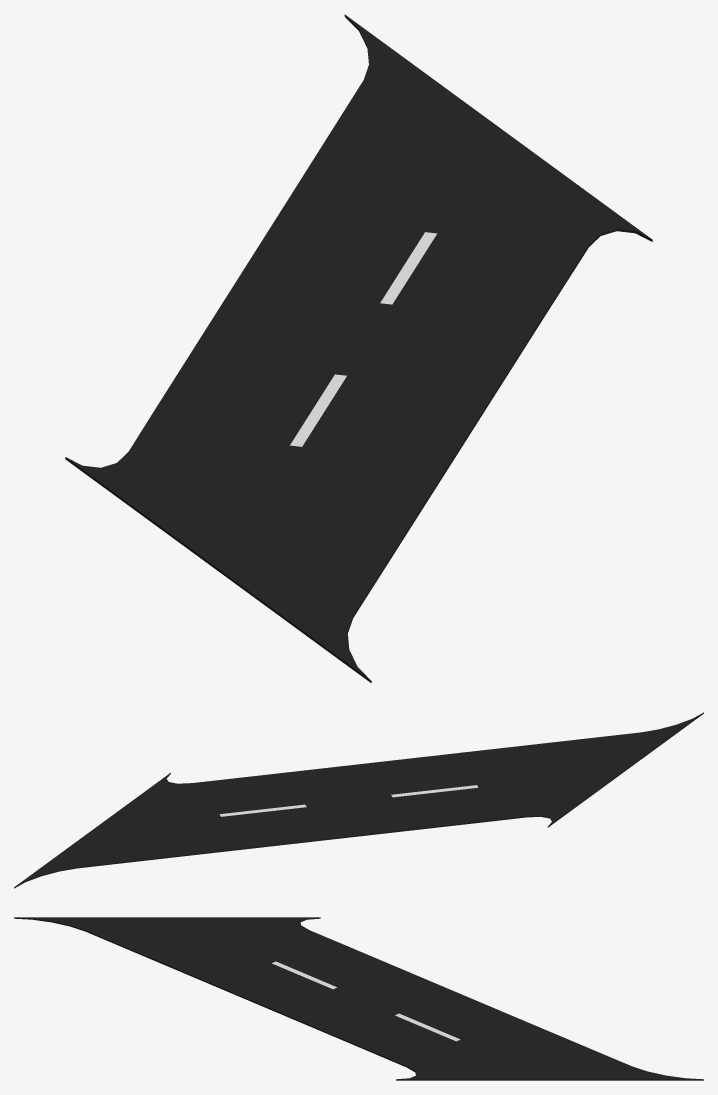
Rendered from airport-runway-angled.glb.
3 renders of one model, top to bottom at view 1: azimuth 30°, elevation 25°; view 2: azimuth 150°, elevation 25°; view 3: azimuth 270°, elevation 25°, orthographic. The views are drawn at different scales.
Parts seen in each view (by area): view 1: LandingTrack5StraightAngled_AIRPORT_0; view 2: LandingTrack5StraightAngled_AIRPORT_0; view 3: LandingTrack5StraightAngled_AIRPORT_0.
Part boxes in pixels (x1,y1,x2,y2): LandingTrack5StraightAngled_AIRPORT_0: (65,14,652,683); LandingTrack5StraightAngled_AIRPORT_0: (14,712,703,888); LandingTrack5StraightAngled_AIRPORT_0: (14,917,703,1080).
Size of the model in its own units: 197 by 0.7001 by 355.
Materials: 1 (1 with a texture image).
